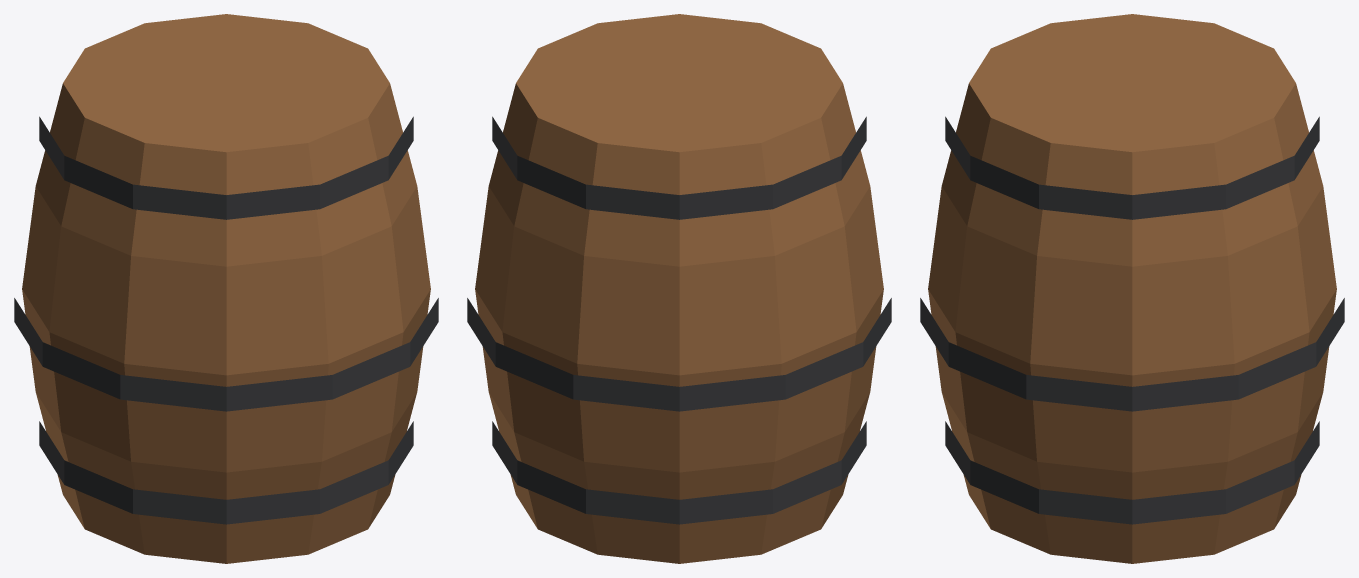
The model's file is barrel.glb.
The picture shows the model from 3 angles, left to right: view 1: azimuth 30°, elevation 25°; view 2: azimuth 150°, elevation 25°; view 3: azimuth 270°, elevation 25°; orthographic projection.
Parts seen in each view (by area): view 1: barrel; view 2: barrel; view 3: barrel.
Boxes of the visible parts, x1=… form: barrel: x1=14, y1=14, x2=438, y2=563; barrel: x1=467, y1=14, x2=891, y2=563; barrel: x1=920, y1=14, x2=1344, y2=563.
Bounding box in the file's own units: 0.934 × 1 × 0.934.
